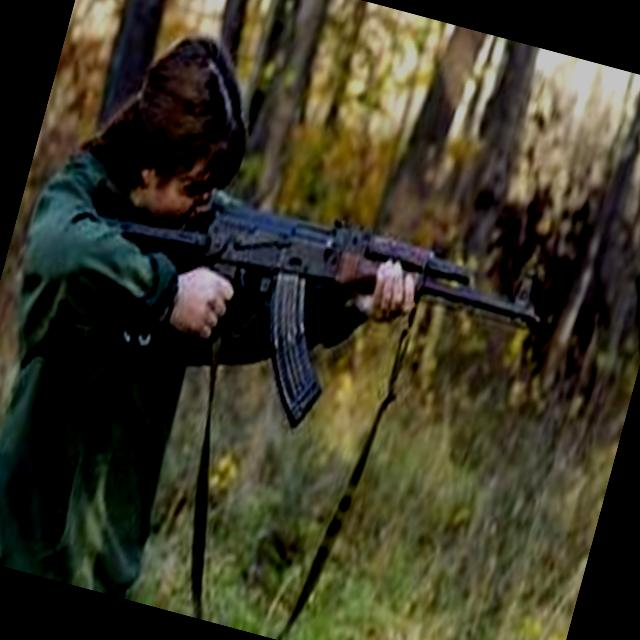ak: (71, 155, 558, 490)
